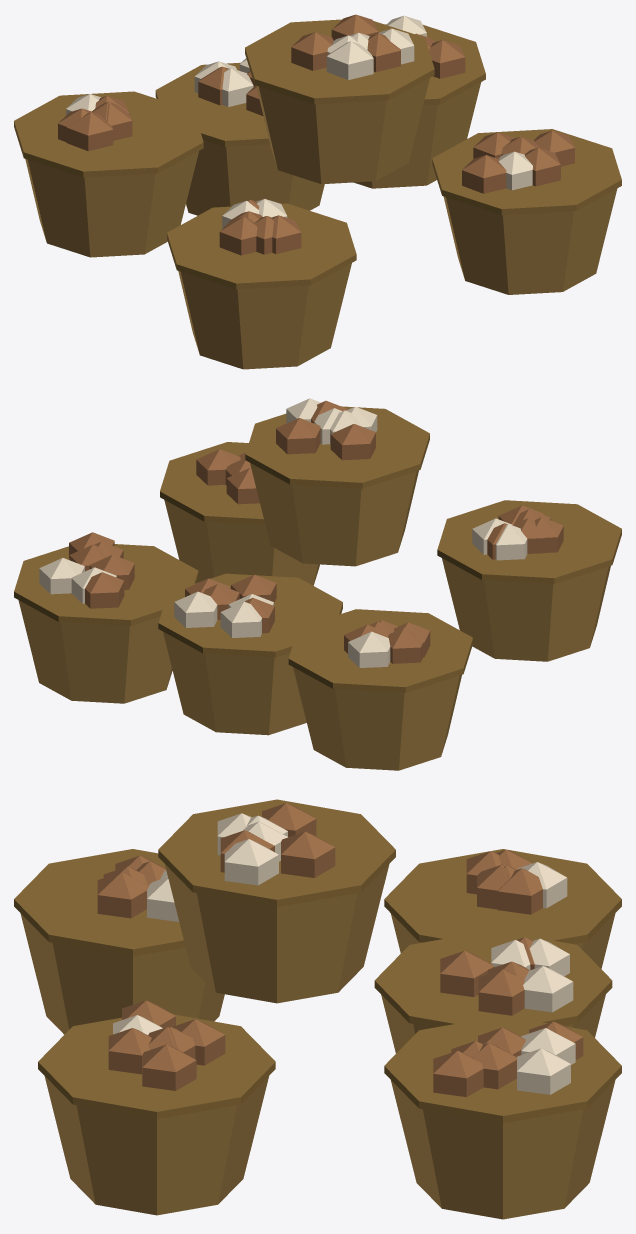
The model's file is pile_mushrooms_3.glb.
The picture shows the model from 3 angles, top to bottom: view 1: azimuth 30°, elevation 25°; view 2: azimuth 150°, elevation 25°; view 3: azimuth 270°, elevation 25°; orthographic projection. The views are drawn at different scales.
Visible parts, largest first — view 1: pile_mushrooms_3; view 2: pile_mushrooms_3; view 3: pile_mushrooms_3.
Part boxes in pixels (x1=…): pile_mushrooms_3: x1=14, y1=14, x2=621, y2=369; pile_mushrooms_3: x1=14, y1=398, x2=621, y2=770; pile_mushrooms_3: x1=14, y1=799, x2=621, y2=1219.
Bounding box in the file's own units: 1.31 × 0.648 × 1.26.
